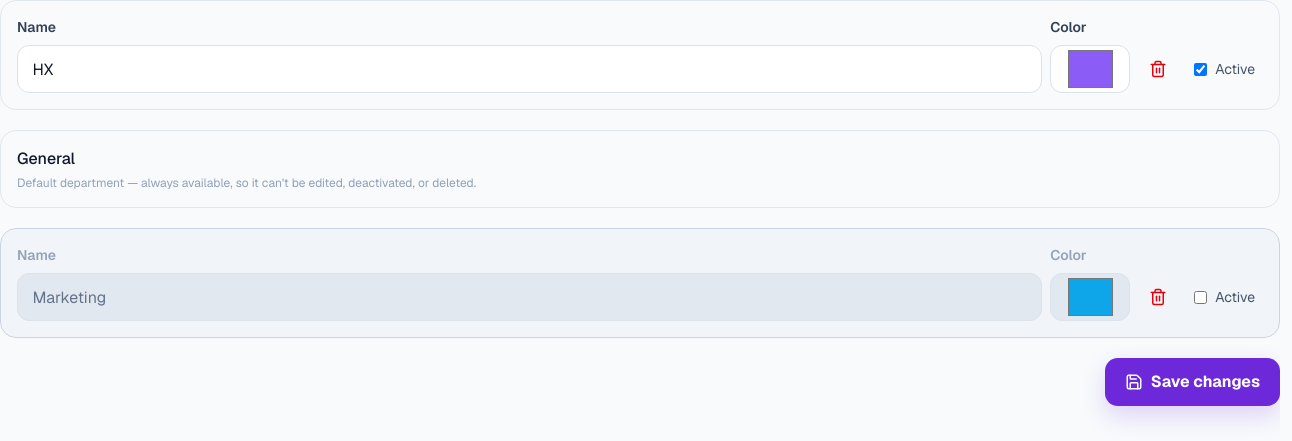
DepartmentsBulkForm › shows an error message returned from the action
Click the button "Save changes" at x=1192, y=382, box [1105,358,1280,406]
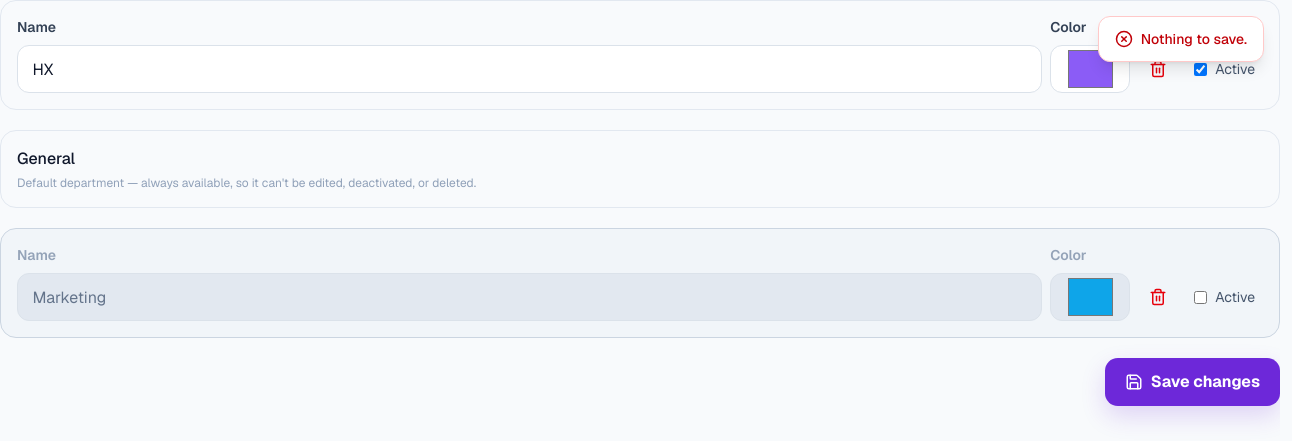
Expected: the message reads "Nothing to save.", [1141,30,1247,48]
